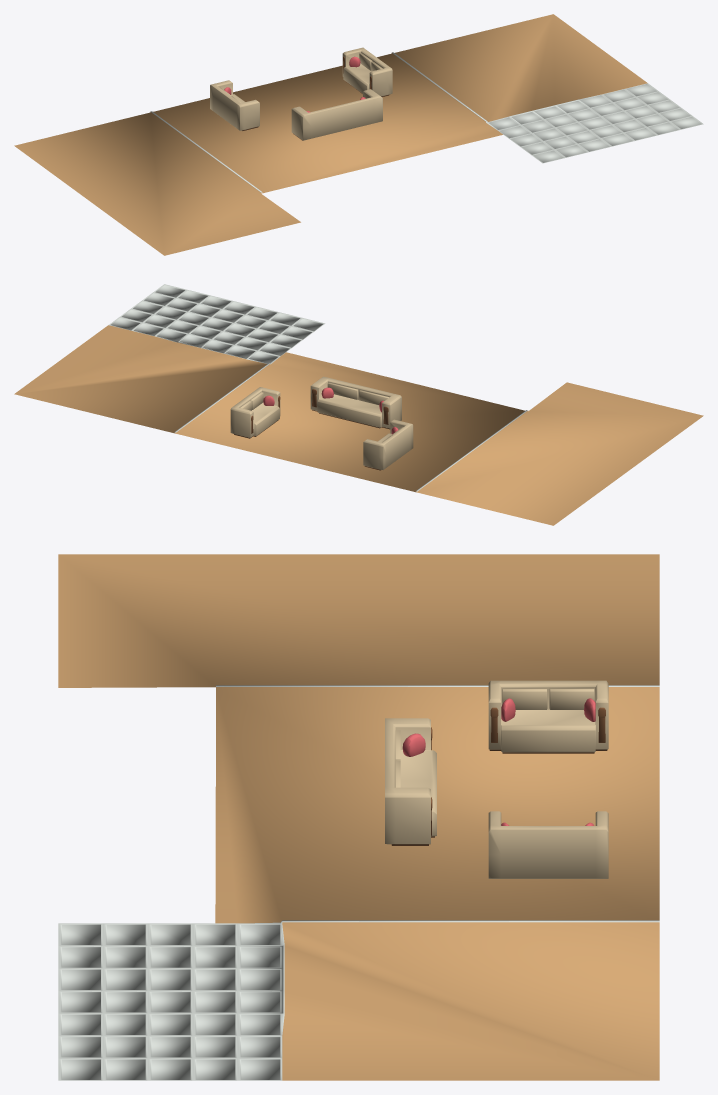
File: ObjBakes.fbx
The picture shows the model from 3 angles, top to bottom: view 1: azimuth 30°, elevation 25°; view 2: azimuth 150°, elevation 25°; view 3: azimuth 270°, elevation 25°; orthographic projection. The views are drawn at different scales.
Parts seen in each view (by area): view 1: Ground, Sofa1, Sofa3, Sofa2; view 2: Ground, Sofa1, Sofa3, Sofa2; view 3: Ground, Sofa2, Sofa3, Sofa1.
Part boxes in pixels (x1=…): Ground: x1=14, y1=14, x2=703, y2=255; Sofa1: x1=291, y1=89, x2=382, y2=140; Sofa3: x1=342, y1=47, x2=392, y2=96; Sofa2: x1=210, y1=80, x2=259, y2=130; Ground: x1=14, y1=284, x2=703, y2=525; Sofa1: x1=310, y1=376, x2=401, y2=429; Sofa3: x1=230, y1=387, x2=280, y2=438; Sofa2: x1=363, y1=419, x2=413, y2=470; Ground: x1=58, y1=554, x2=659, y2=1080; Sofa2: x1=488, y1=680, x2=608, y2=753; Sofa3: x1=488, y1=811, x2=608, y2=878; Sofa1: x1=385, y1=718, x2=436, y2=845.
Size of the model in its own units: 3016 by 142 by 1456.
